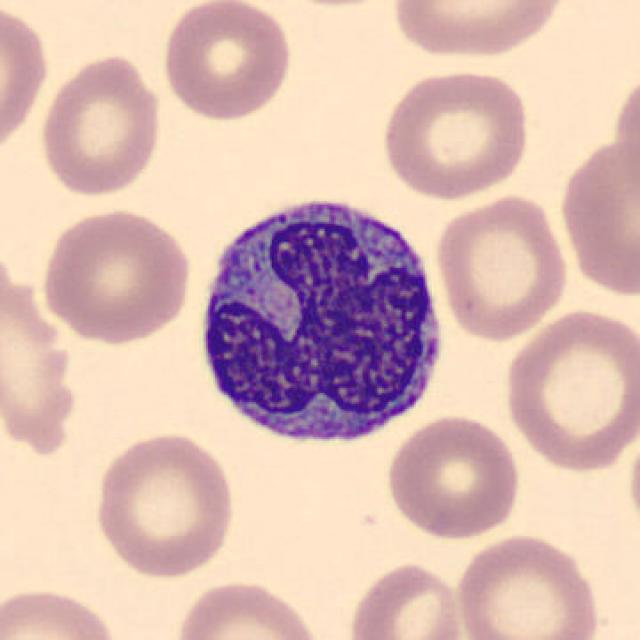Monocyte: (189, 182, 455, 460)
RBC: (500, 305, 638, 474), (89, 427, 238, 580), (37, 205, 194, 348), (377, 65, 535, 203), (432, 190, 572, 342), (36, 49, 167, 200), (382, 411, 523, 541), (158, 0, 295, 123), (451, 530, 604, 640), (554, 128, 640, 303), (388, 0, 574, 62), (170, 576, 325, 640), (345, 559, 467, 640), (0, 0, 52, 166), (0, 583, 124, 640), (624, 416, 640, 548), (261, 0, 410, 12)
